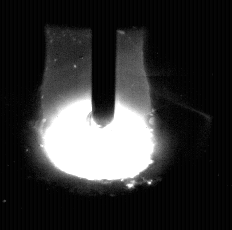arame: (93, 0, 116, 128)
poca: (40, 0, 156, 230)
